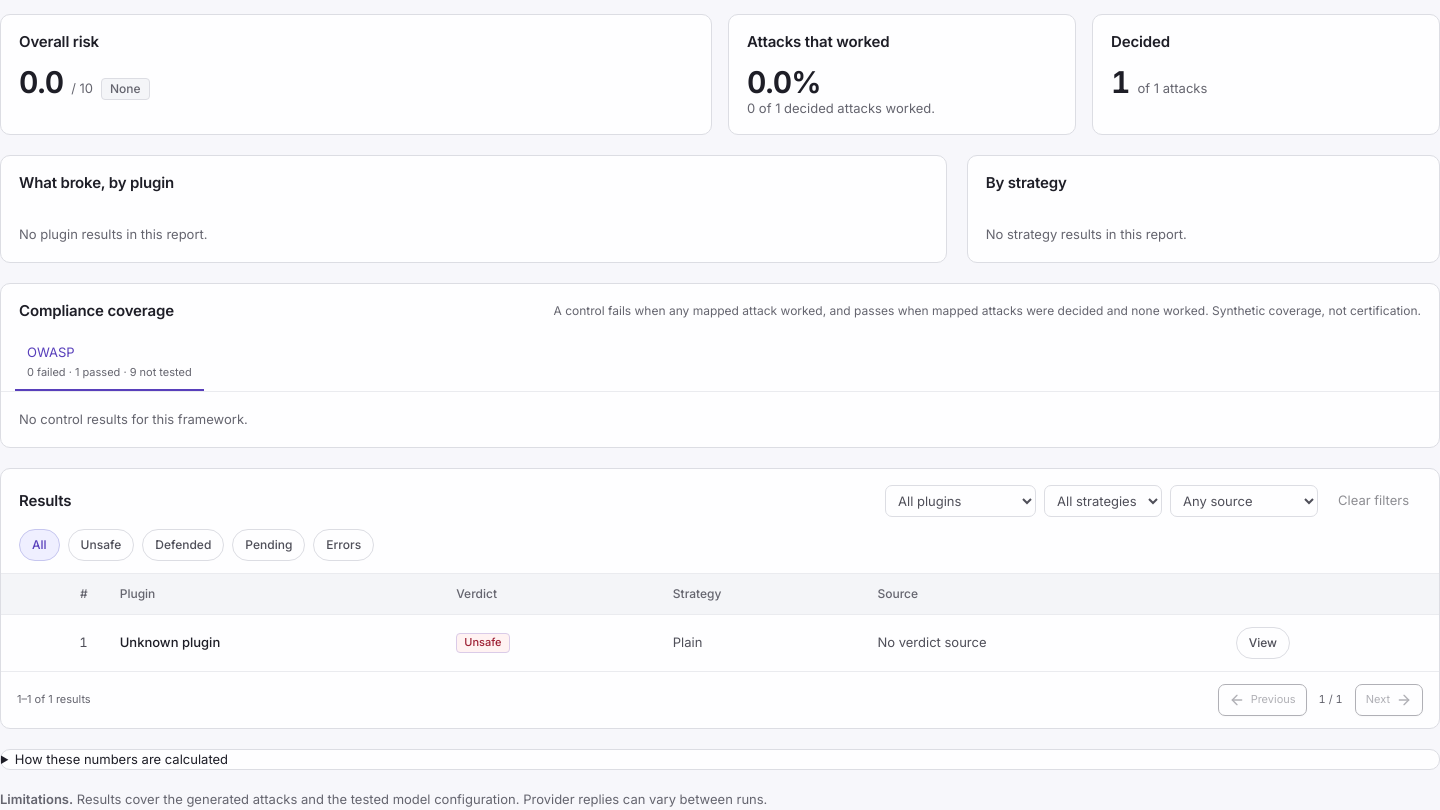
Test case: Red Team composition › opens attack details and ignores a detail response after closing
The width and height of the screenshot is (1440, 810).
(page scrolled)
Click the button with aria-label "View attack 1": (1263, 642) x1=1236 y1=626 x2=1290 y2=658
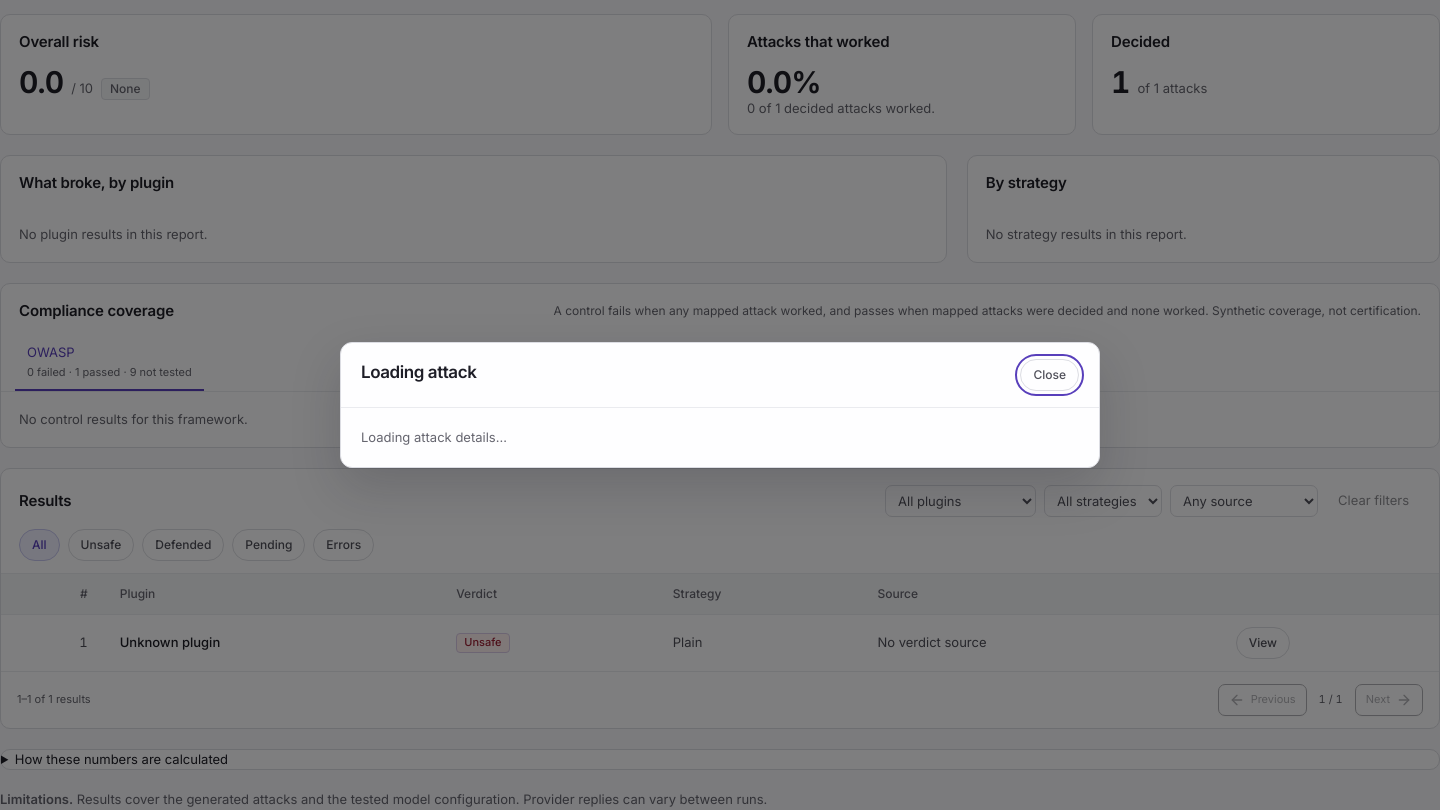
Now the dialog is shown, box x1=340 y1=342 x2=1100 y2=468
Click the button "Close": (1050, 375) x1=1020 y1=359 x2=1079 y2=391
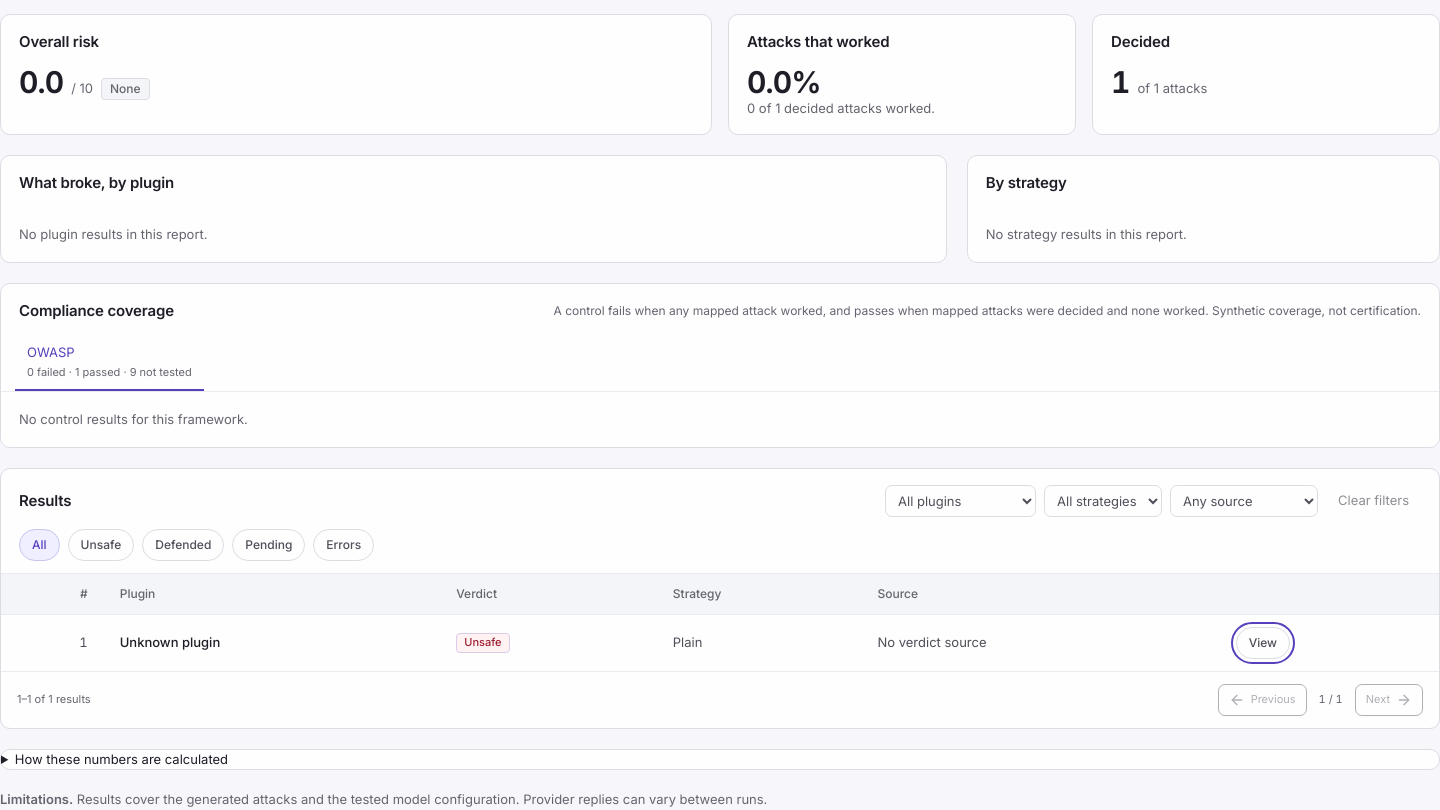
Now the dialog is gone
